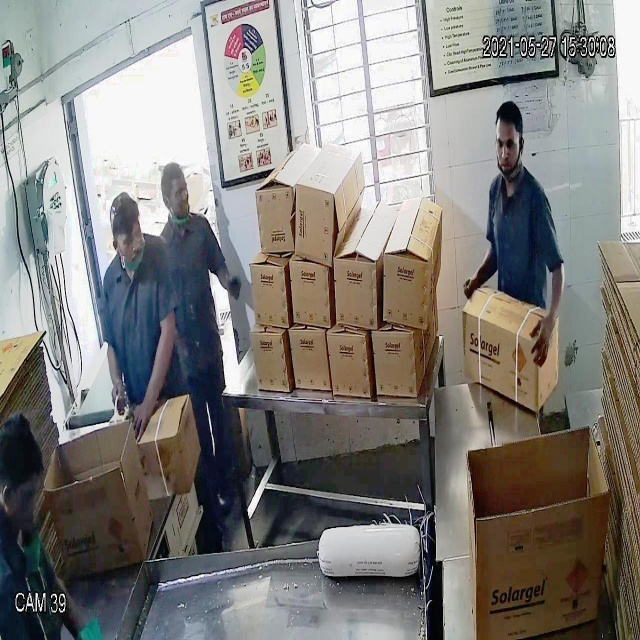Sin_gafas: (106, 220, 150, 257), (489, 131, 526, 157)
